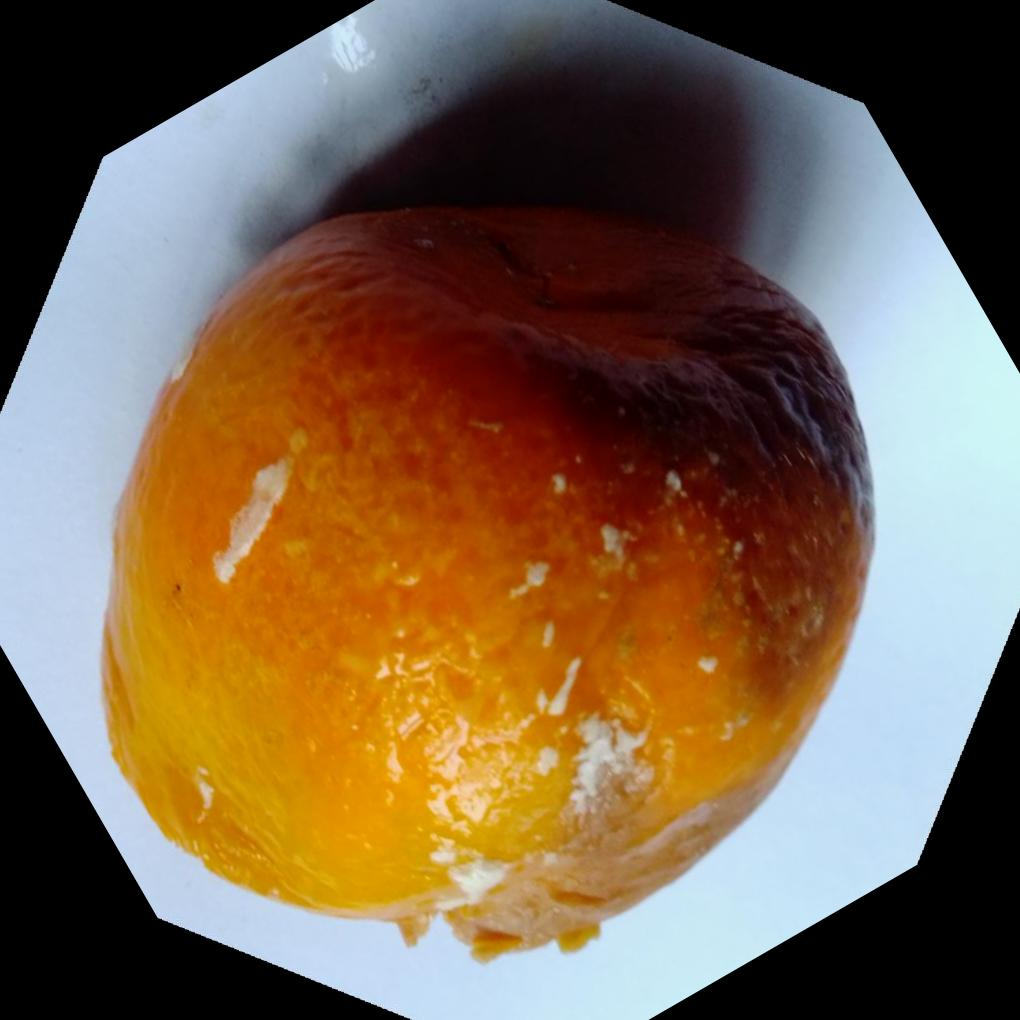FreshOrange: (94, 201, 873, 967)
